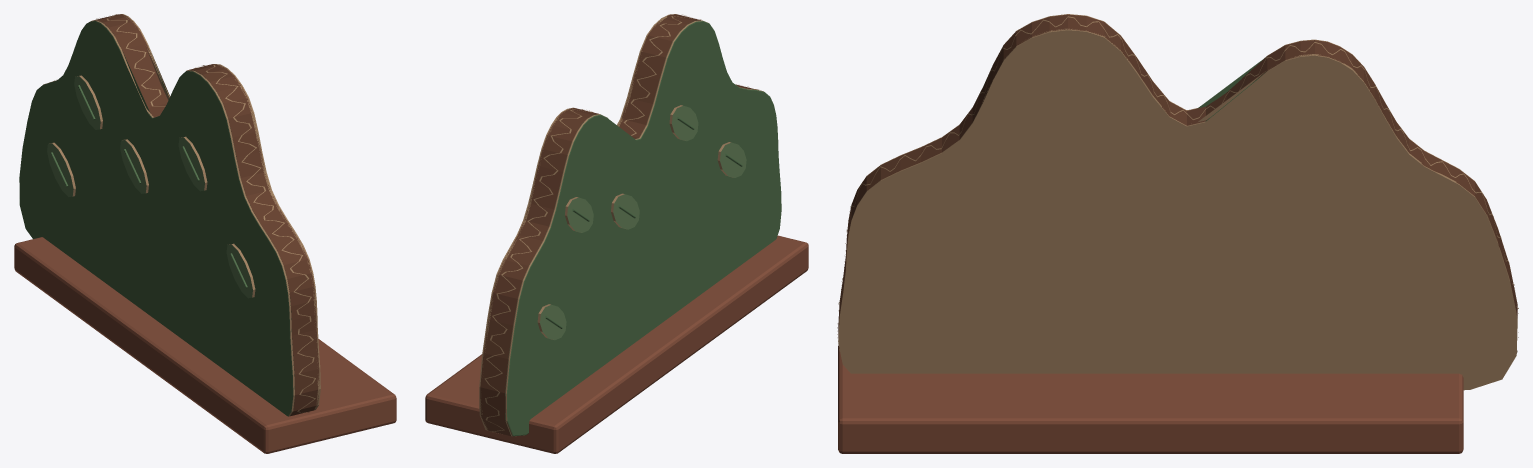
Rendered from SM_Menu_MeadowShrub.fbx.
3 renders of one model, left to right at view 1: azimuth 30°, elevation 25°; view 2: azimuth 150°, elevation 25°; view 3: azimuth 270°, elevation 25°, orthographic. The views are drawn at different scales.
Visible parts, largest first — view 1: MeadowShrub Core.001_Baked; view 2: MeadowShrub Core.001_Baked; view 3: MeadowShrub Core.001_Baked.
Part boxes in pixels (x1=…): MeadowShrub Core.001_Baked: x1=14, y1=14, x2=396, y2=453; MeadowShrub Core.001_Baked: x1=425, y1=14, x2=808, y2=453; MeadowShrub Core.001_Baked: x1=837, y1=14, x2=1518, y2=453.
Size of the model in its own units: 29 by 104 by 64.1.
